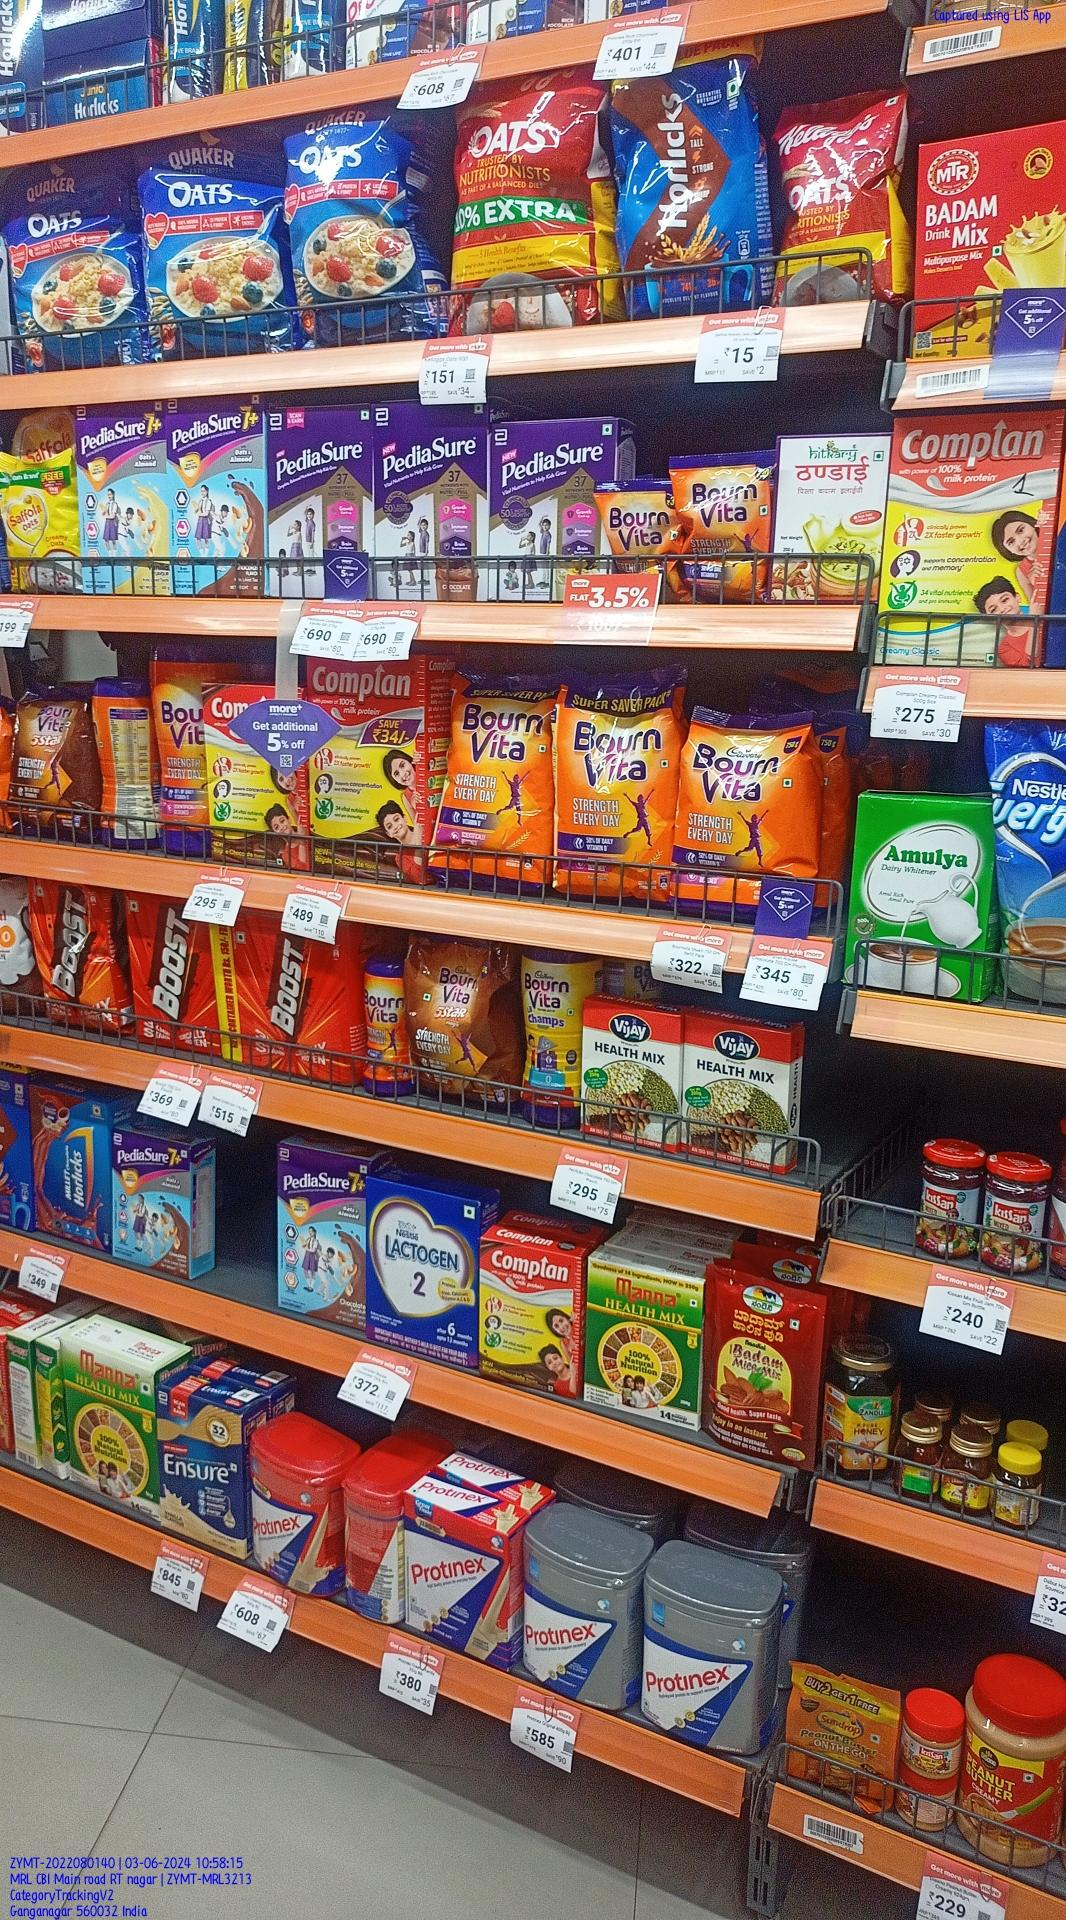BOURN_VITA_75_G_POUCH: (601, 482, 683, 600)
BOURN_VITA_CHAMPS_500_G_JAR: (521, 942, 584, 1126)
BOURN_VITA_FIVE_STAR_MAGIC_500_G_POUCH: (410, 921, 515, 1109), (11, 673, 96, 836)
ENSURE_VANILLA_400_G_PACK: (156, 1383, 242, 1559)
PEDIASURE_7_PLUS_CHOCOLATE_400_G_PACK: (276, 1140, 362, 1316), (110, 1127, 193, 1285)
PEDIASURE_CHOCOLATE_500_G_PACK: (377, 399, 484, 600)
PEDIASURE_VANILLA_500_G_PACK: (492, 423, 597, 602)
PROTINEX_ORIGINAL_400_G_JAR: (643, 1570, 757, 1751), (524, 1529, 626, 1706)
PROTINEX_VANILLA_400_G_JAR: (248, 1433, 333, 1596)
